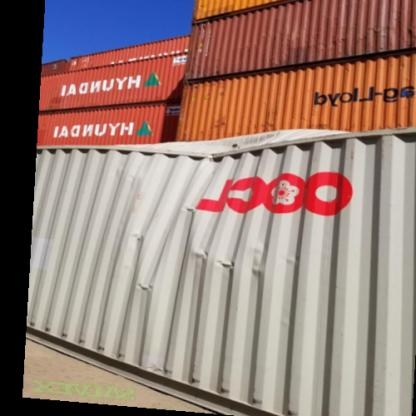Damage: (120, 128, 306, 295)
